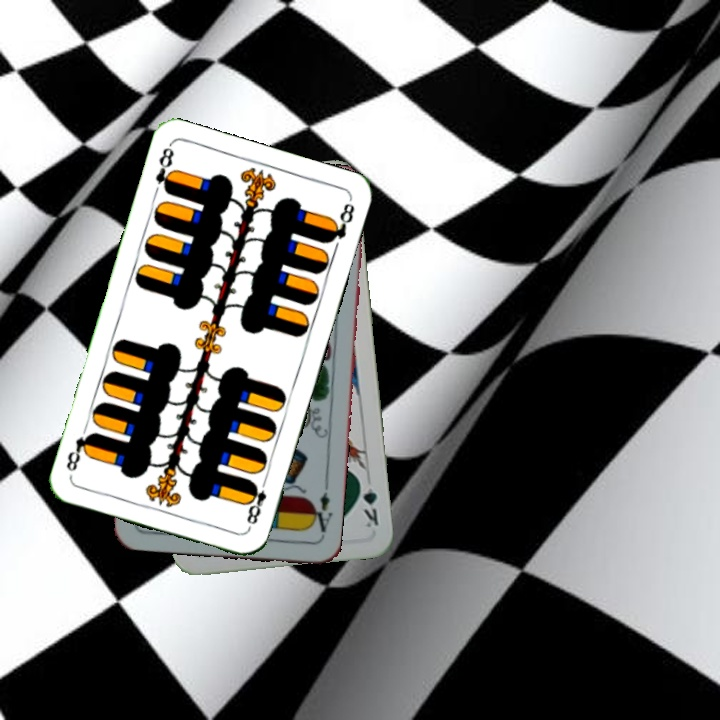E8: (242, 474, 270, 531), (151, 142, 178, 197)
EA: (307, 480, 335, 539)
GK: (355, 474, 381, 530)
